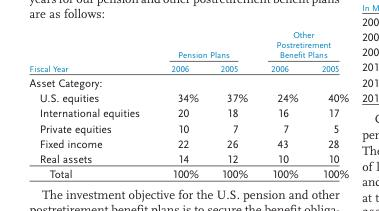table: (28, 29, 348, 180)
table column: (28, 29, 154, 180), (154, 29, 208, 180), (258, 29, 309, 180), (208, 29, 258, 180), (309, 29, 348, 180)
table column header: (28, 29, 348, 74)
table projected row header: (28, 74, 348, 90)
table row: (28, 29, 348, 61), (28, 74, 348, 90), (28, 150, 348, 166), (28, 90, 348, 105), (28, 105, 348, 120), (28, 120, 348, 135), (28, 135, 348, 150), (28, 166, 348, 180), (28, 61, 348, 74)
table spanning cell: (28, 29, 154, 74), (154, 29, 258, 61), (258, 29, 348, 61)
